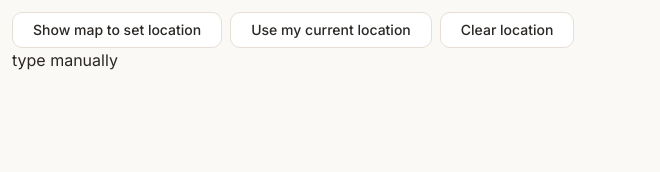
CoordinatePicker — use my current location (ATP-80) › says so when the browser has no geolocation at all
Click the button "Use my current location".
click(331, 30)  # box [230,12,432,48]
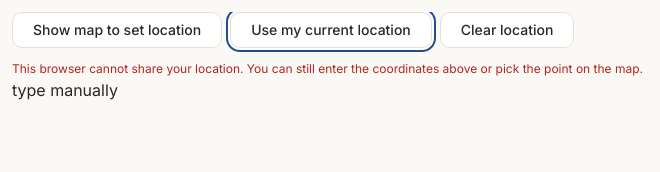
Expected: the message shows "cannot share your location", [12,61,643,76]
